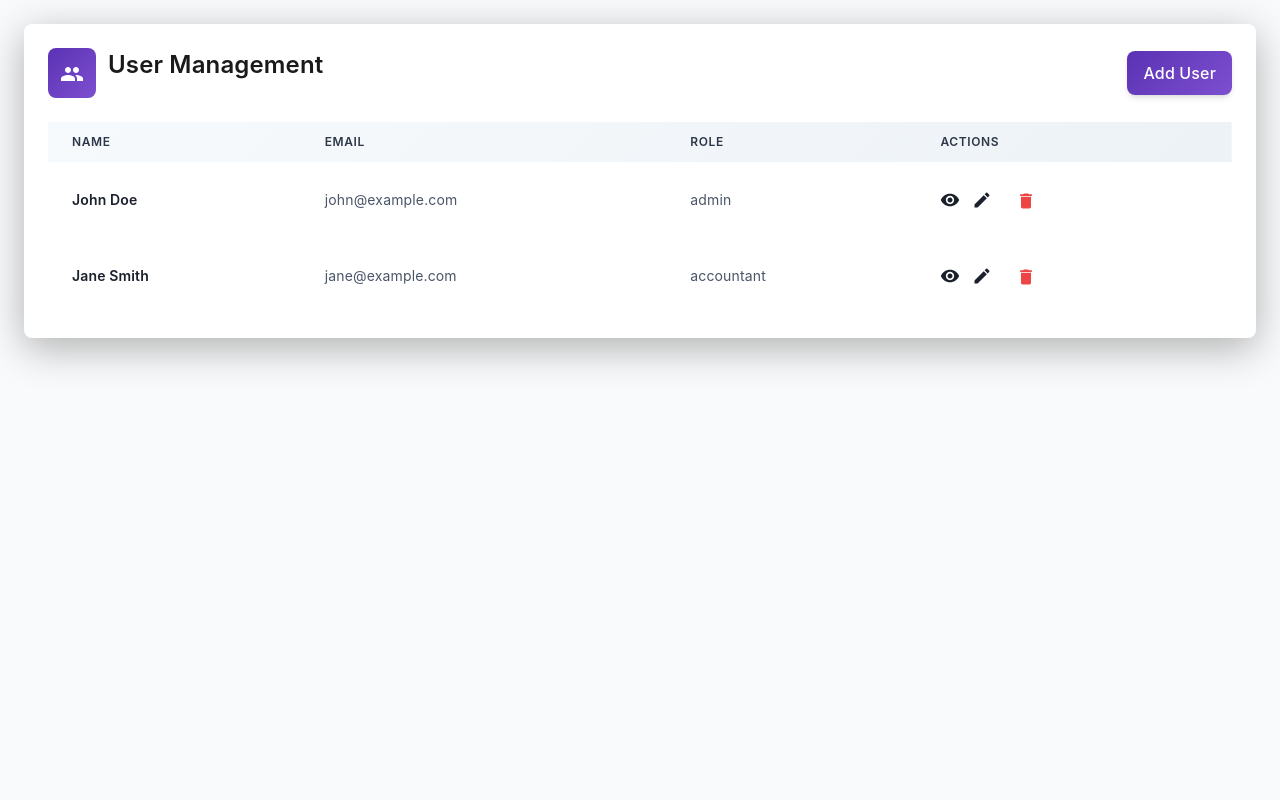
Scenario: Users › opens add user modal when Add User button is clicked
Click the button "Add User" at (1180, 73), box x1=1128 y1=51 x2=1232 y2=95
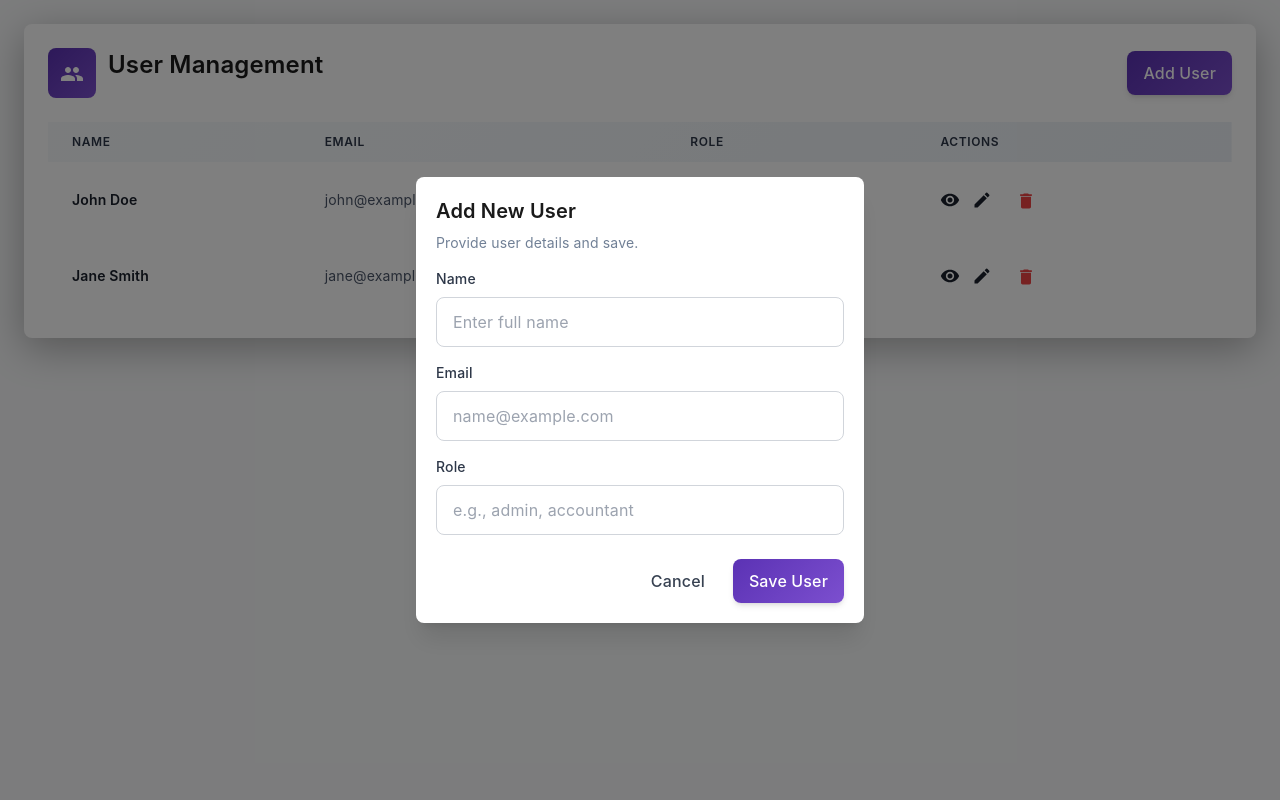
Result: the heading "Add New User" is shown at x1=436 y1=199 x2=576 y2=223
